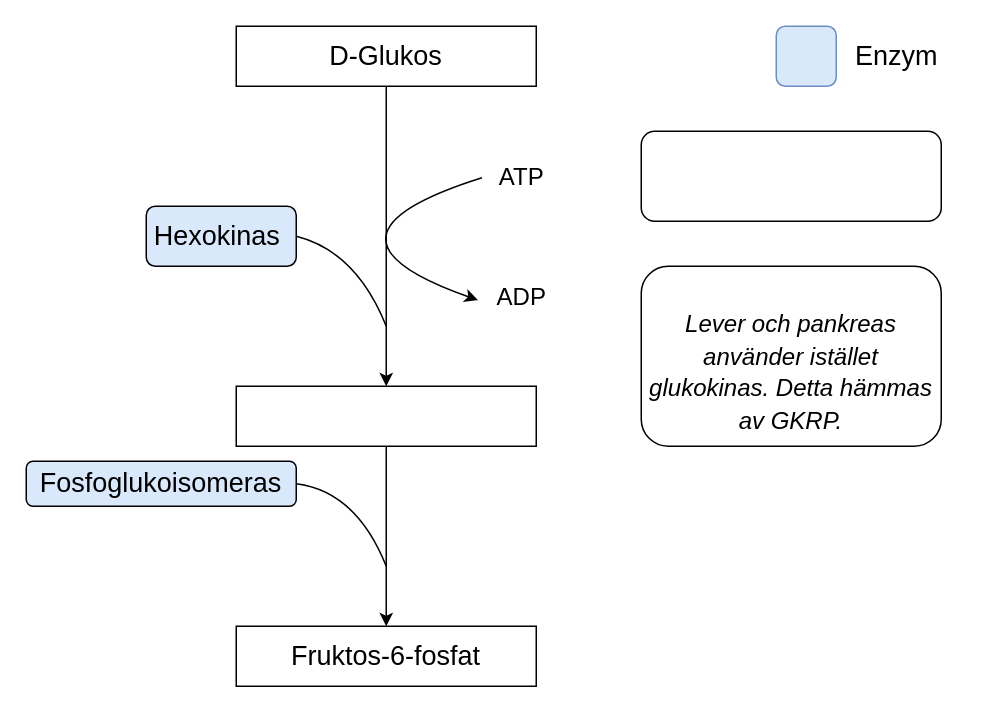
Image size: 983x713. Some labels were removed from this diagram. Here are the shapes that lost their labels. From the top down, the centre of each, then its label:
At point (790, 175): "Glukos-6-fosfat hämmar hexokinas.".
At point (385, 415): "Glukos-6-fosfat".
